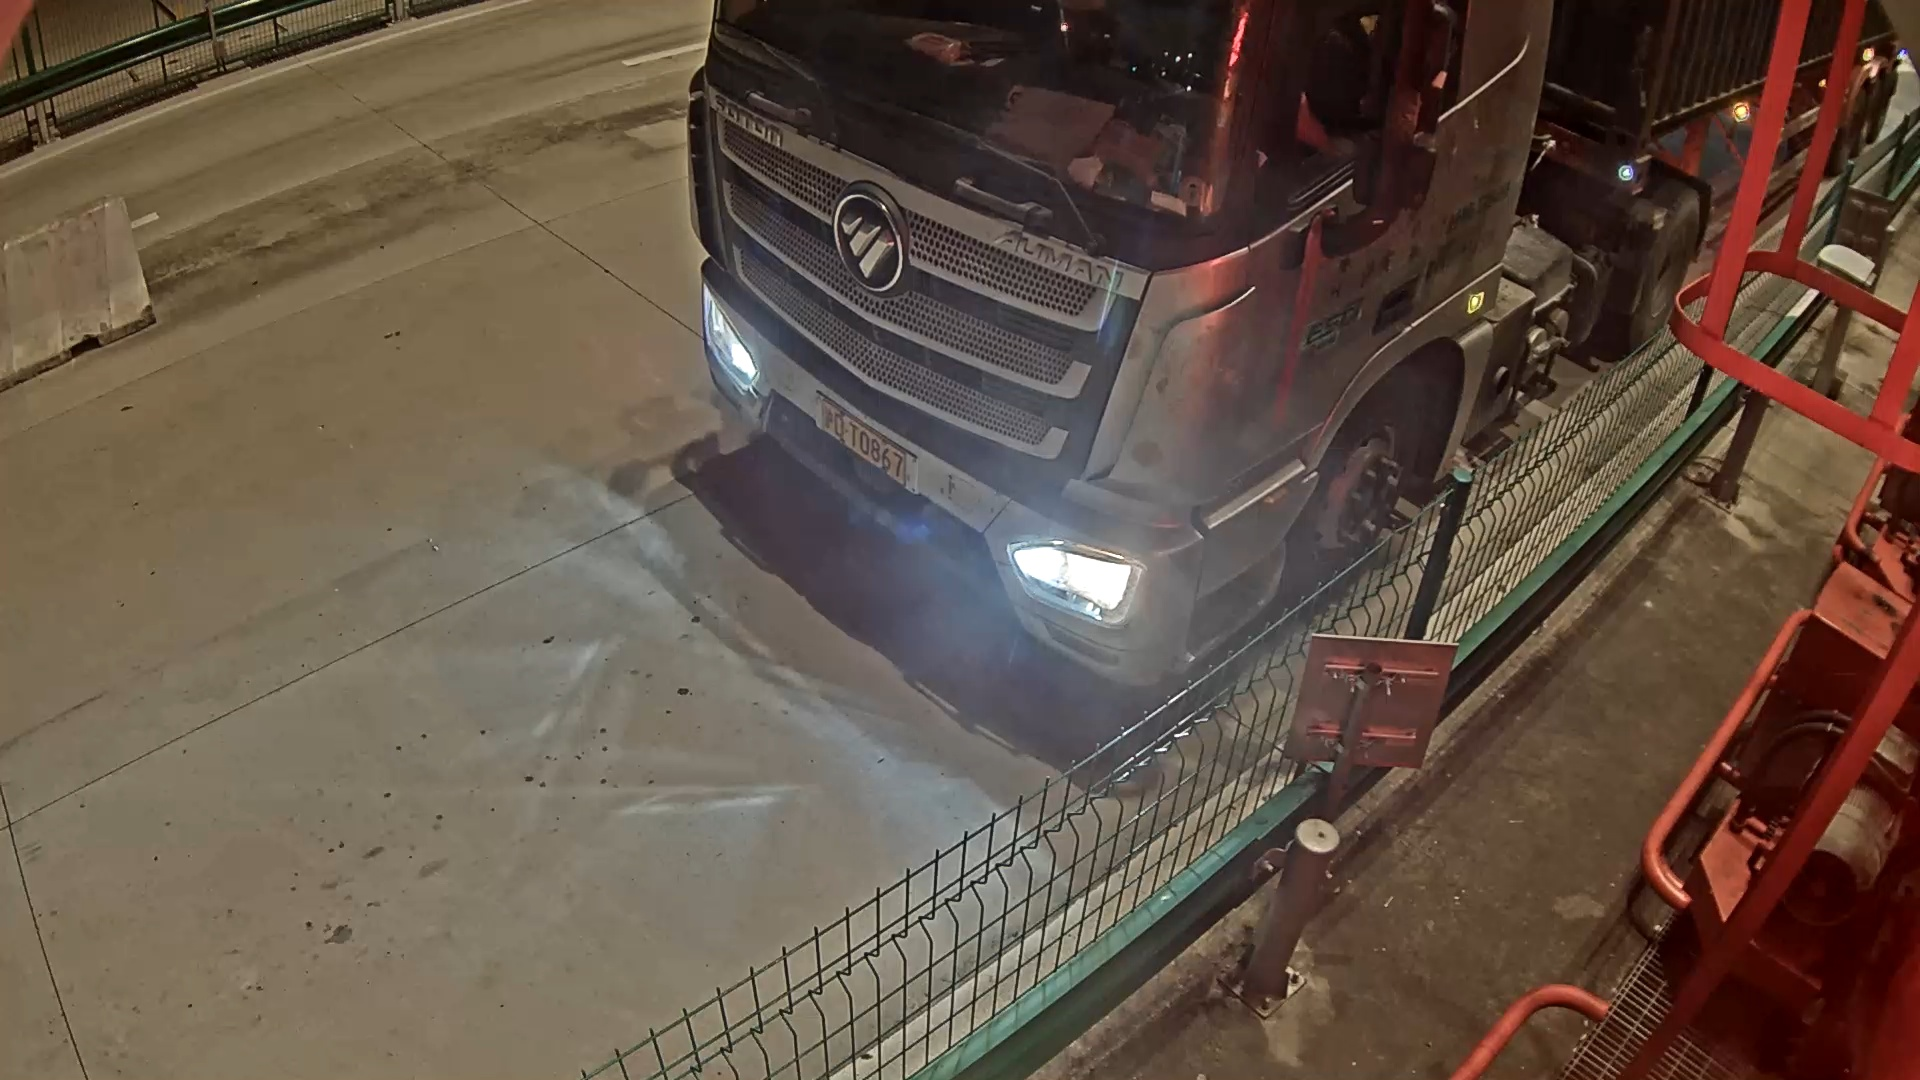head: (668, 21, 1309, 690)
plate: (817, 405, 926, 508)
